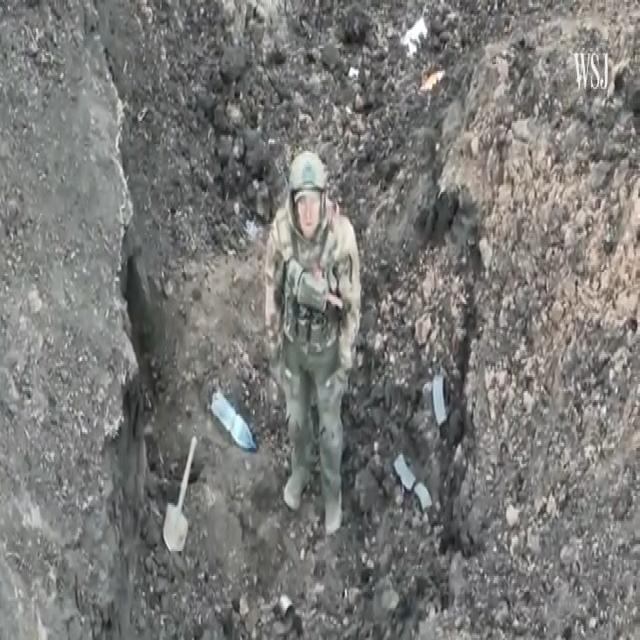Civilian: (265, 151, 359, 534)
